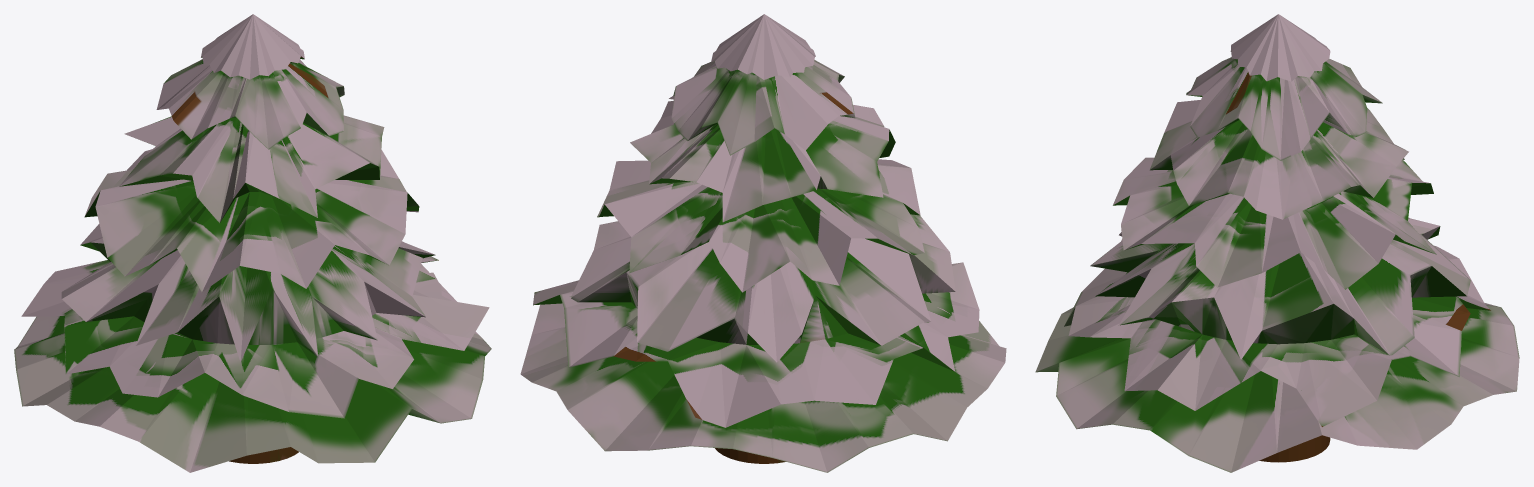
The model's file is tree.dae.
3 views of the same model, side by side, from view 1: azimuth 30°, elevation 25°; view 2: azimuth 150°, elevation 25°; view 3: azimuth 270°, elevation 25° (orthographic).
Parts seen in each view (by area): view 1: Cylinder; view 2: Cylinder; view 3: Cylinder.
Boxes of the visible parts, <box> form: Cylinder: <box>14,14,491,472</box>; Cylinder: <box>520,14,1006,472</box>; Cylinder: <box>1035,14,1519,472</box>.
Size of the model in its own units: 9.25 by 9.37 by 9.11.
Materials: 1 (1 with a texture image).
